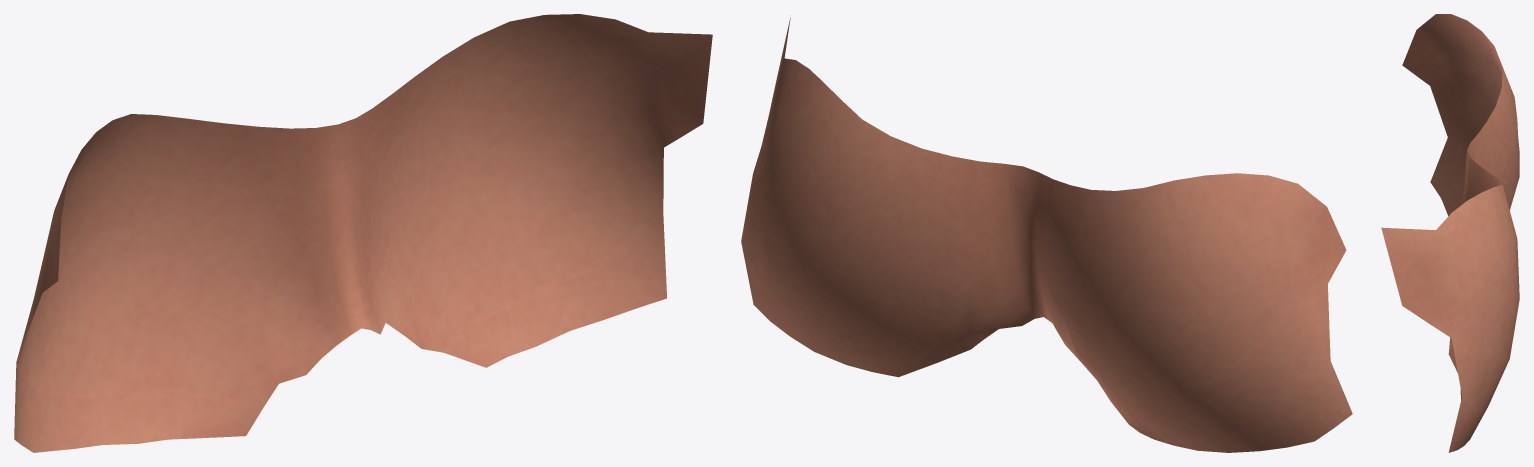
Rendered from glutes.glb.
3 renders of one model, left to right at view 1: azimuth 30°, elevation 25°; view 2: azimuth 150°, elevation 25°; view 3: azimuth 270°, elevation 25°, orthographic. The views are drawn at different scales.
Parts seen in each view (by area): view 1: glutes; view 2: glutes; view 3: glutes.
Boxes of the visible parts, x1,y1,x2,y2 form: glutes: [14, 14, 712, 452]; glutes: [741, 15, 1352, 452]; glutes: [1381, 14, 1519, 452].
Size of the model in its own units: 0.0321 by 0.0151 by 0.00751.
Materials: 1 (1 with a texture image).
